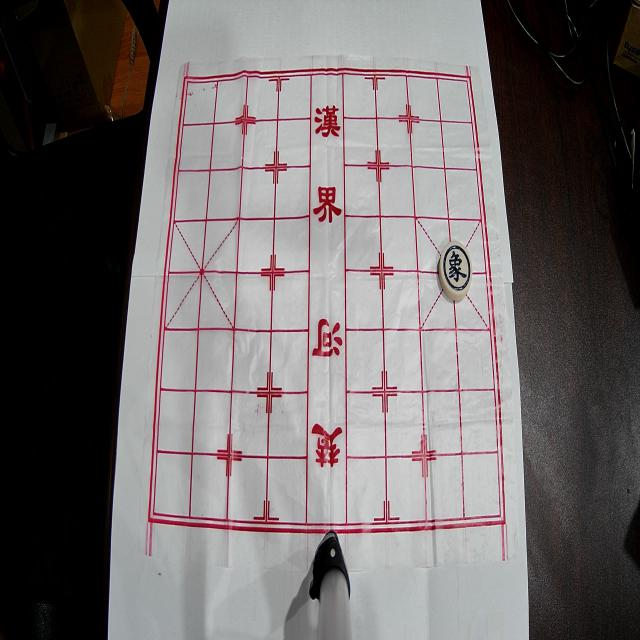black-elephant: (438, 241, 472, 300)
